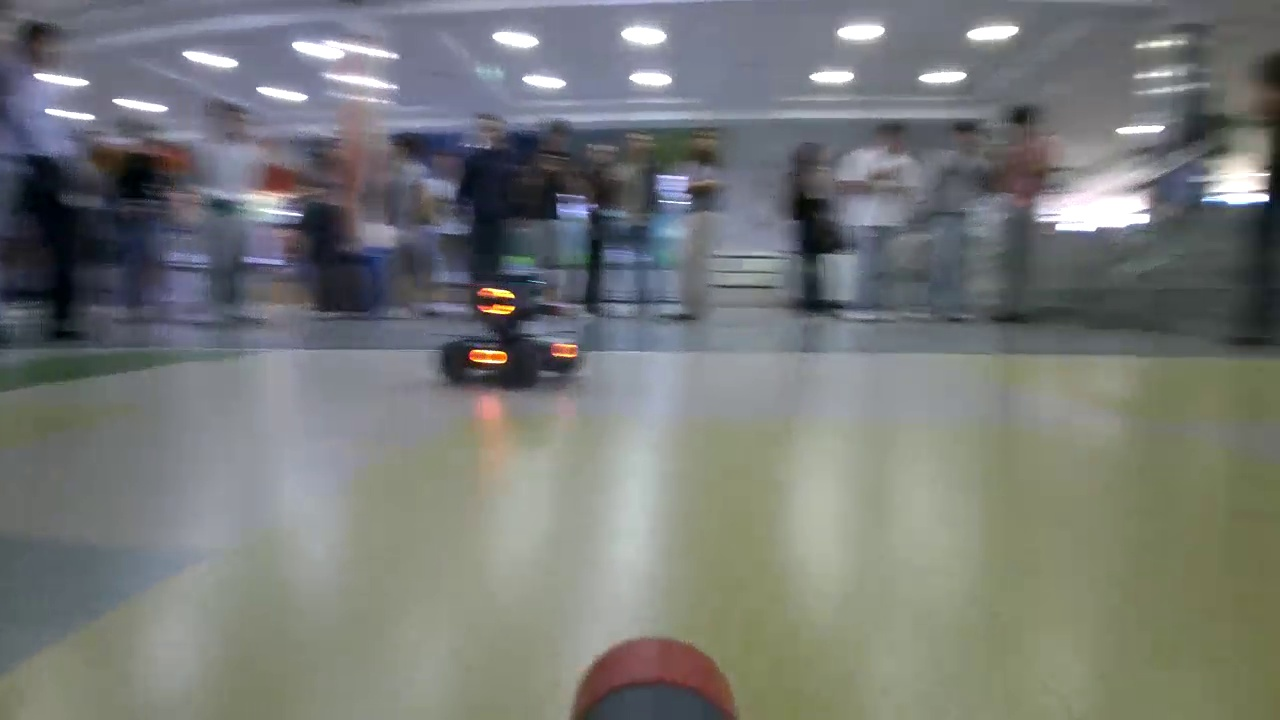robot: (440, 284, 576, 378)
